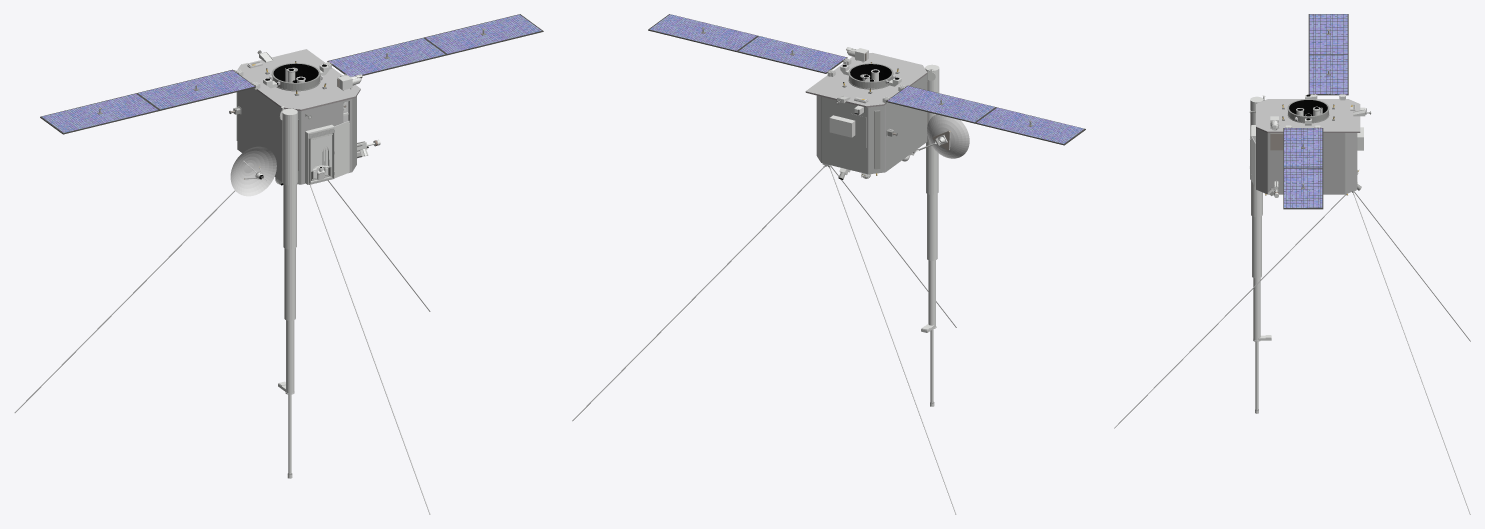
File: stereo.glb
The picture shows the model from 3 angles, left to right: view 1: azimuth 30°, elevation 25°; view 2: azimuth 150°, elevation 25°; view 3: azimuth 270°, elevation 25°; orthographic projection. The views are drawn at different scales.
Parts seen in each view (by area): view 1: Layer_0; view 2: Layer_0; view 3: Layer_0.
Boxes of the visible parts, box(x1,y1,x2,y2) form: Layer_0: box(14, 14, 543, 514); Layer_0: box(572, 14, 1085, 514); Layer_0: box(1114, 14, 1470, 514).
Size of the model in its own units: 3142 by 2425 by 2434.
Materials: 2 (2 with a texture image).
